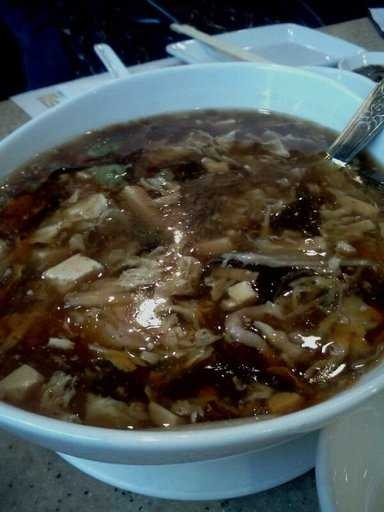soup: (1, 103, 376, 415)
